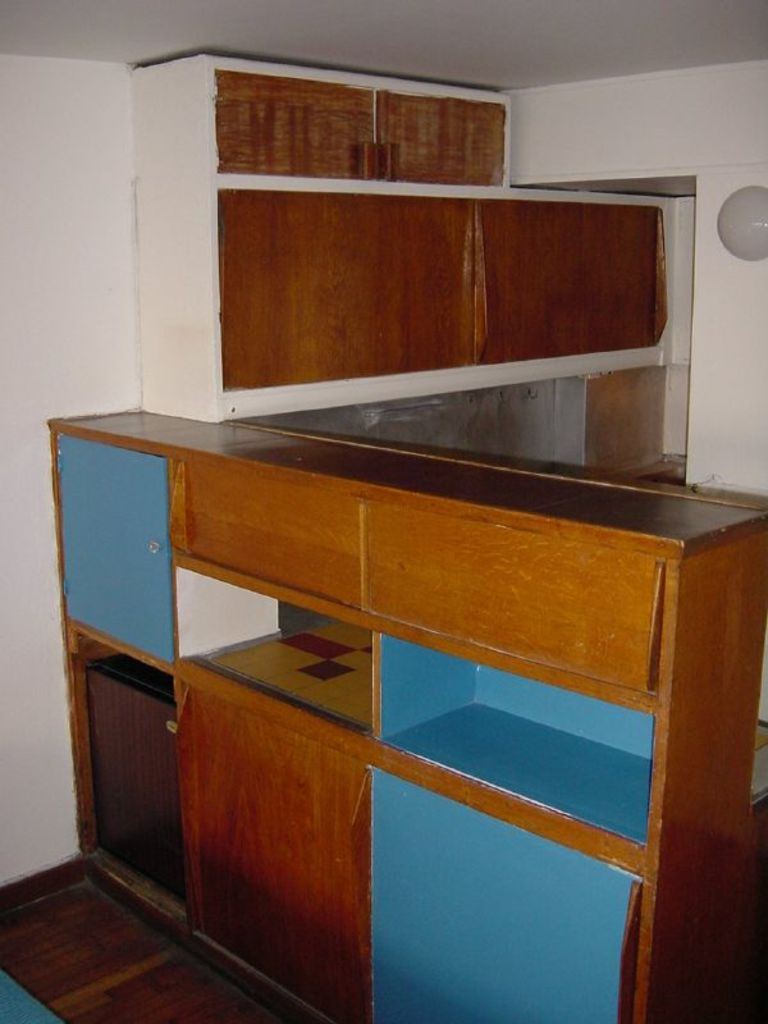cabinet door: (373, 515, 670, 678), (190, 717, 367, 953), (235, 193, 478, 351), (483, 206, 670, 343), (179, 465, 368, 580), (65, 458, 169, 651), (221, 73, 369, 174), (375, 100, 495, 178)
handle: (346, 795, 371, 983), (643, 562, 665, 695), (650, 222, 673, 344), (619, 897, 637, 1024), (473, 235, 493, 340), (353, 513, 367, 602), (145, 532, 166, 570)
